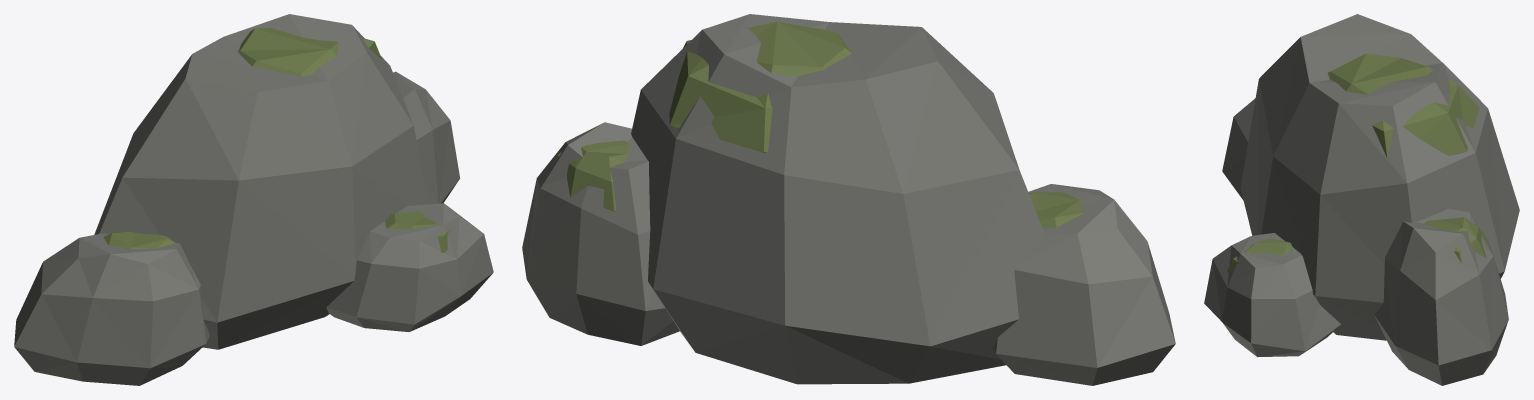
Rendered from NAT_V3_Rock_MossCluster.glb.
3 views of the same model, side by side, from view 1: azimuth 30°, elevation 25°; view 2: azimuth 150°, elevation 25°; view 3: azimuth 270°, elevation 25° (orthographic). The views are drawn at different scales.
Parts seen in each view (by area): view 1: NAT_V3_Rock_MossCluster; view 2: NAT_V3_Rock_MossCluster; view 3: NAT_V3_Rock_MossCluster.
Boxes of the visible parts, x1,y1,x2,y2 form: NAT_V3_Rock_MossCluster: (14, 14, 493, 385); NAT_V3_Rock_MossCluster: (522, 14, 1175, 385); NAT_V3_Rock_MossCluster: (1204, 14, 1519, 385).
Size of the model in its own units: 1.78 by 0.8064 by 0.9912.
